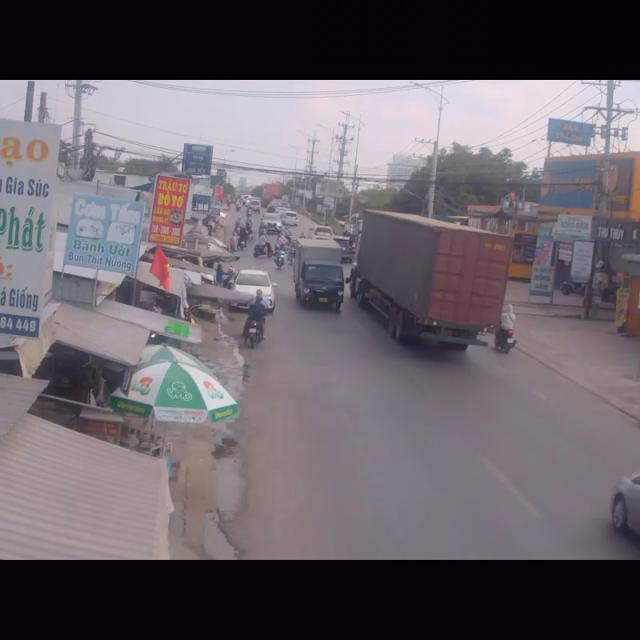car: (609, 474, 640, 534)
motorbike: (245, 293, 269, 352), (496, 303, 517, 356)
truck: (350, 214, 509, 356), (296, 232, 351, 312)
